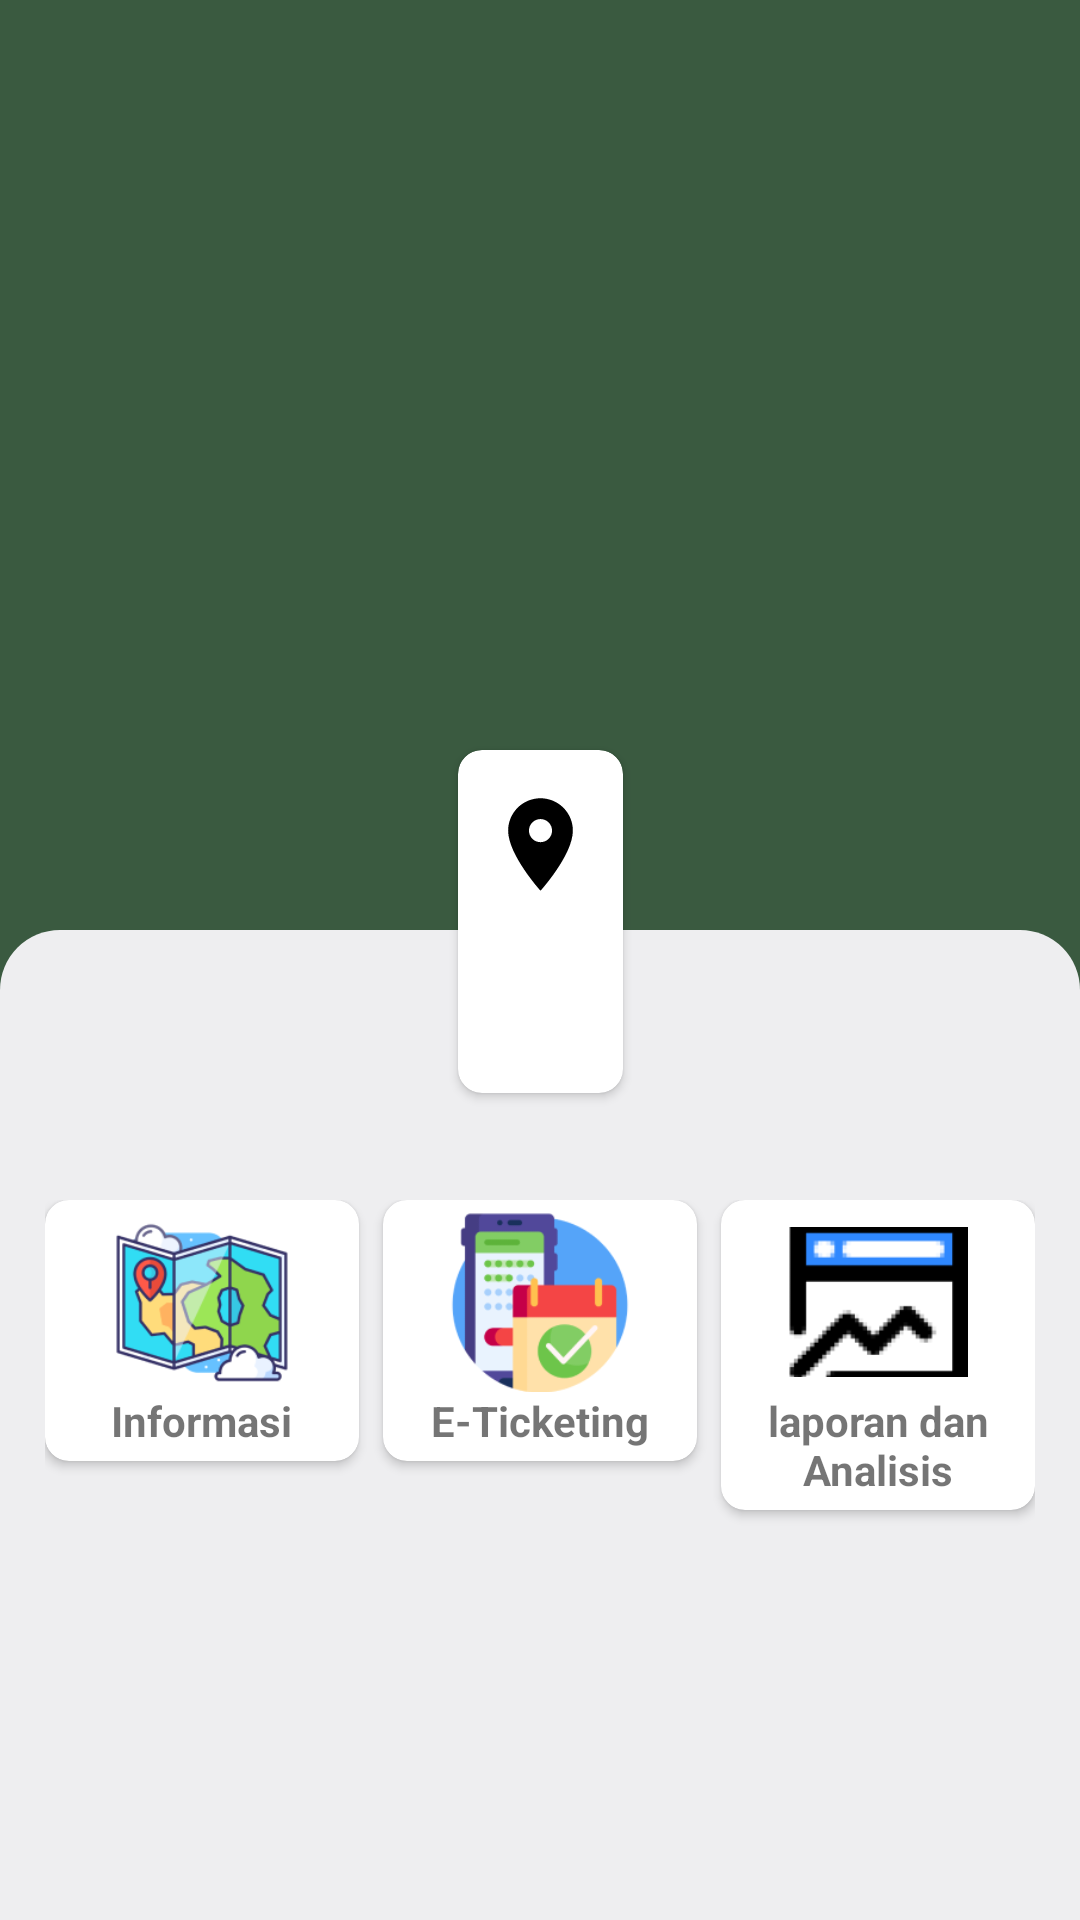

Point at icon controls on the screen. Image size 1080 × 1920, points as (x=x, y=y).
location: (x=540, y=844)
